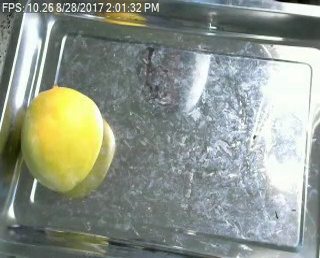Mango: (18, 86, 104, 190)
